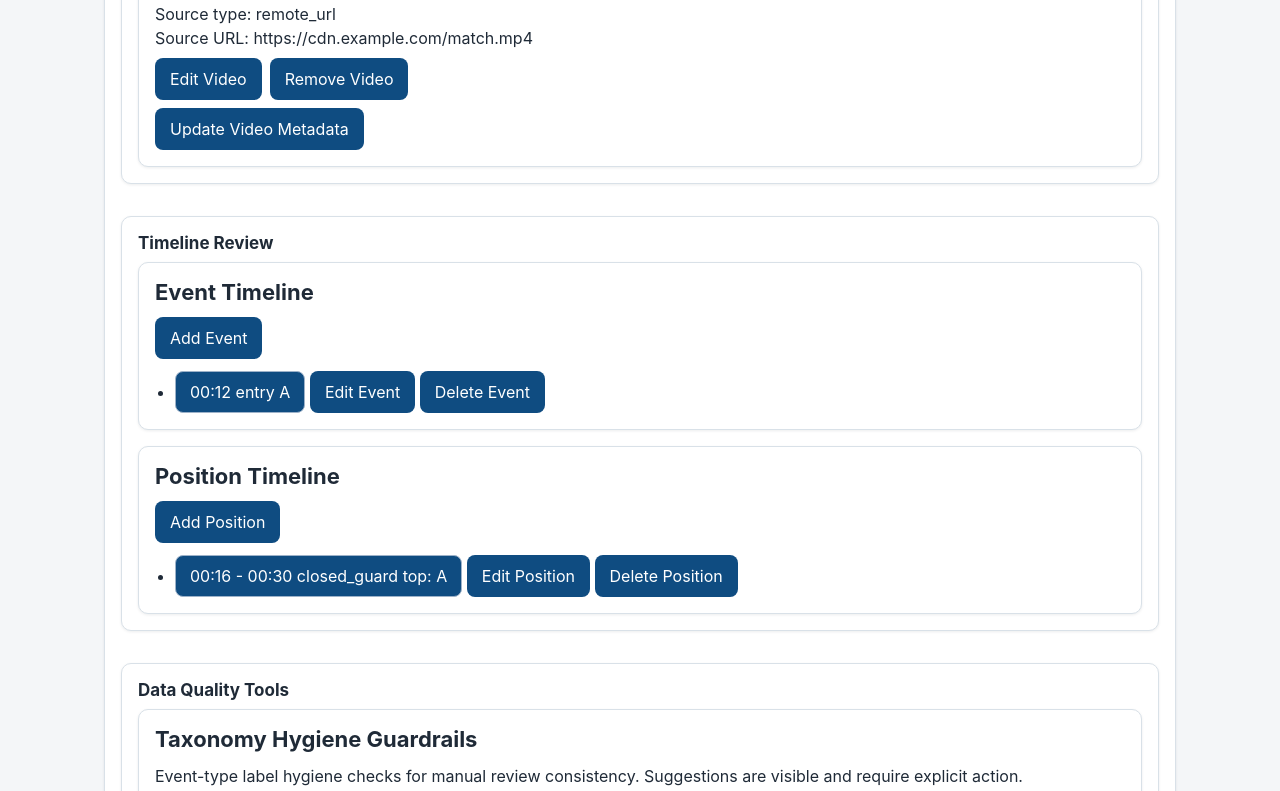
Scenario: Video review UI › seeks video when timeline items are clicked and shows validation errors
(page scrolled)
Click the button "00:12 entry A" at (240, 392), box left=175, top=371, right=305, bottom=413
(page scrolled)
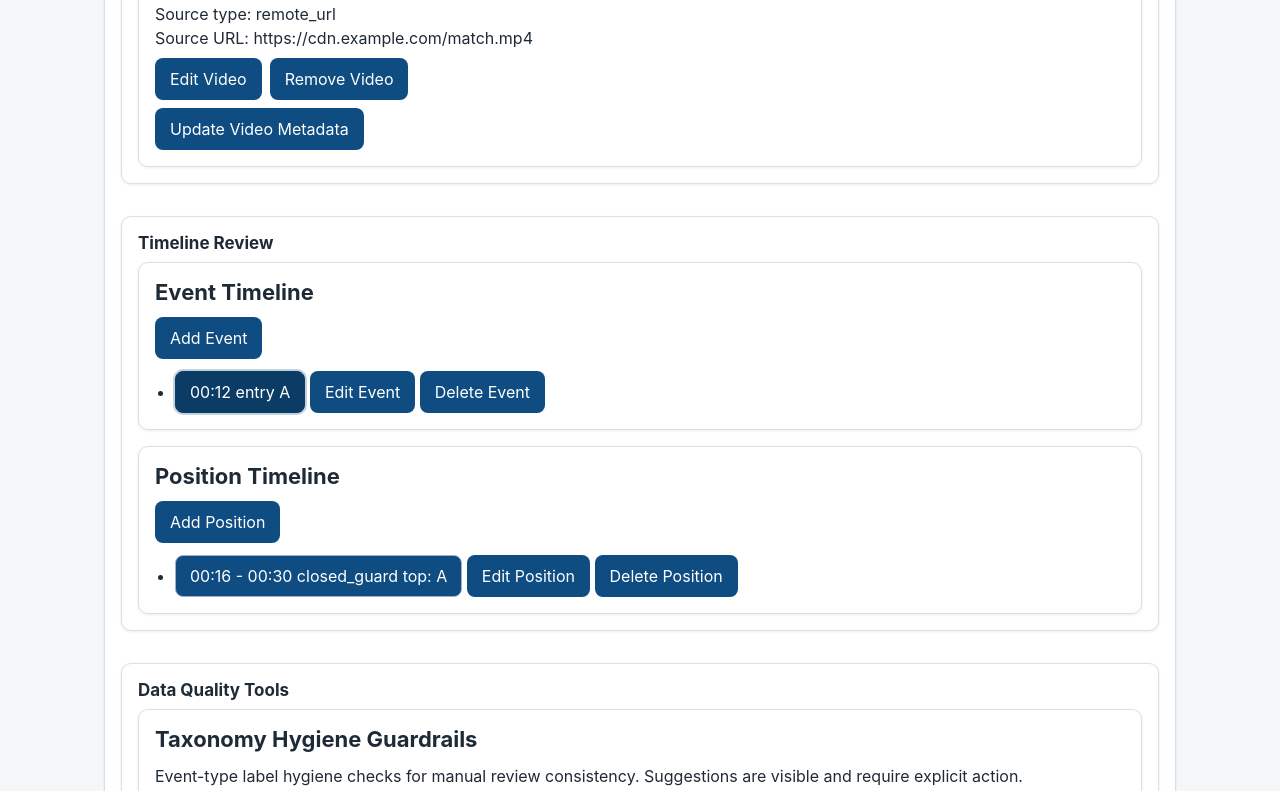
Click the button "00:16 - 00:30 closed_guard top: A" at (319, 576), box left=175, top=556, right=462, bottom=598
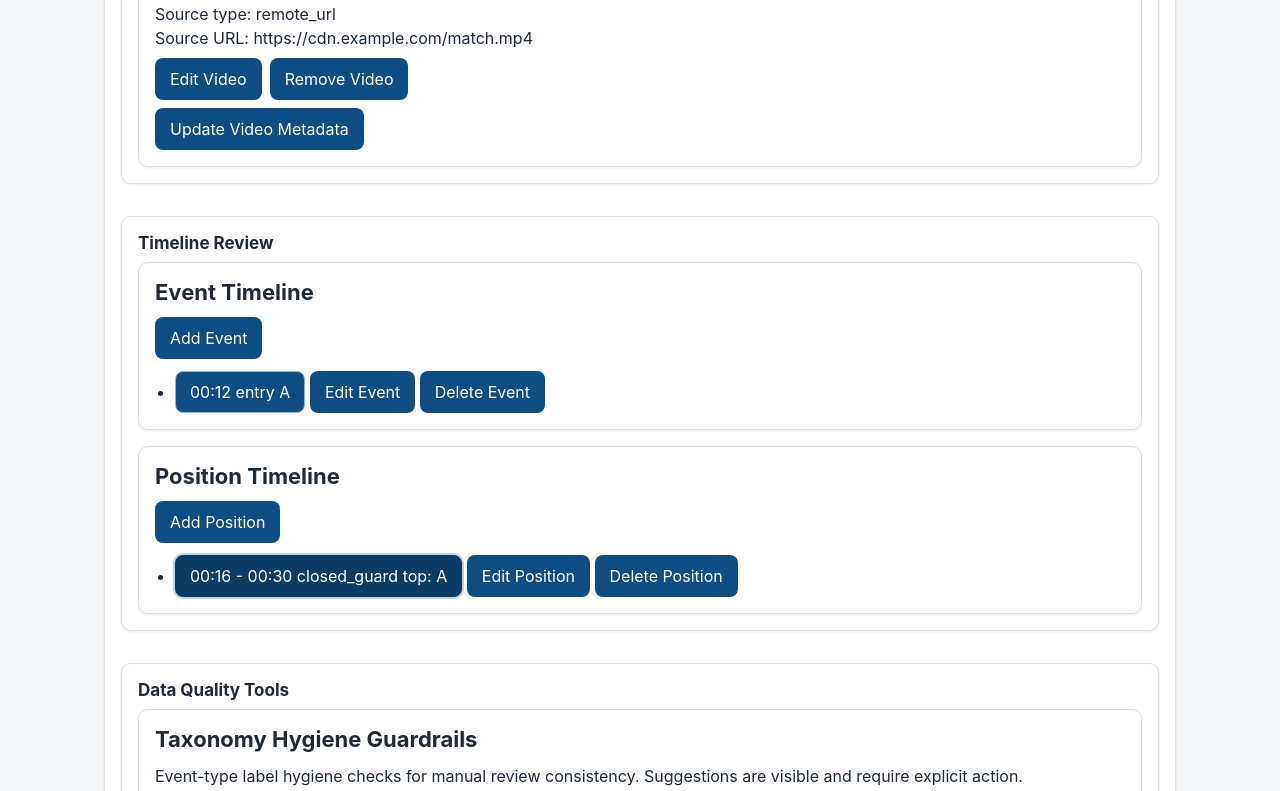
Click the button "Edit Video" at (208, 79), box left=155, top=58, right=262, bottom=100
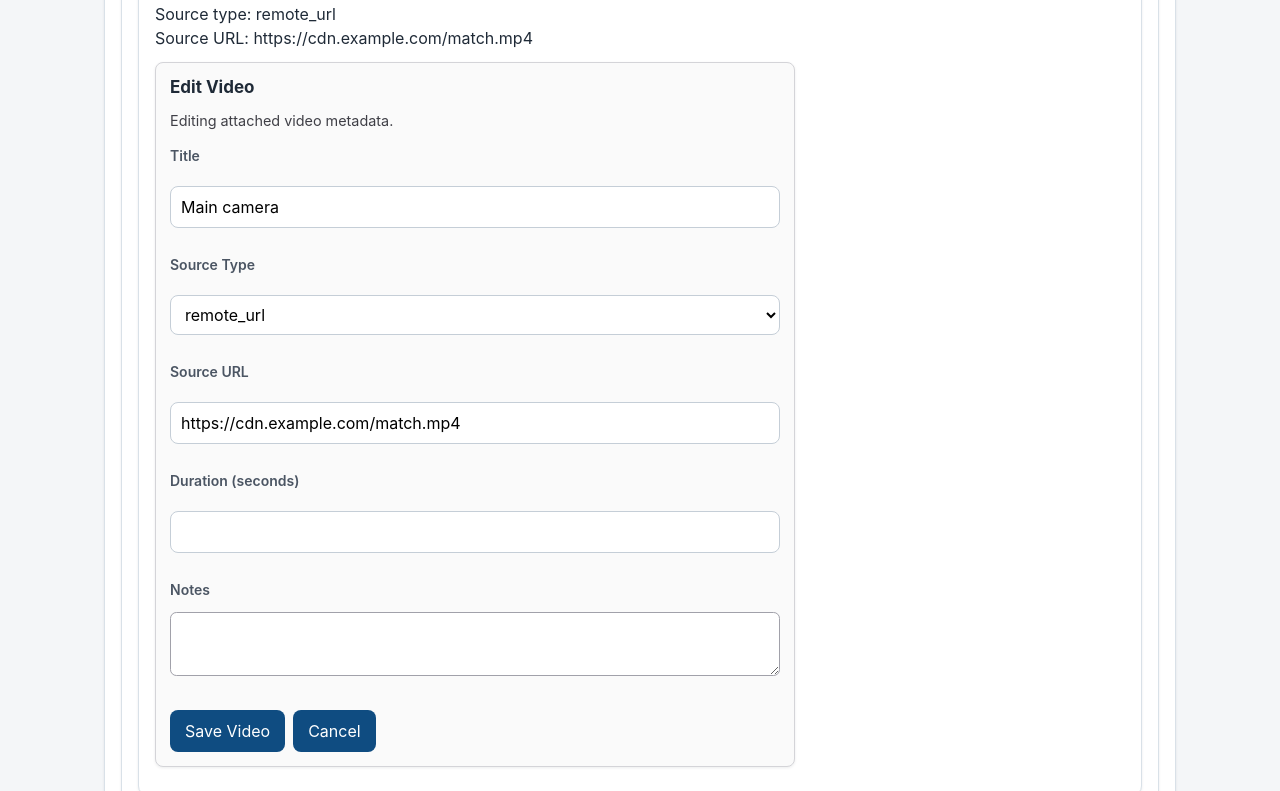
Clear the field labelled "Source URL" at (475, 423), box left=170, top=402, right=780, bottom=444
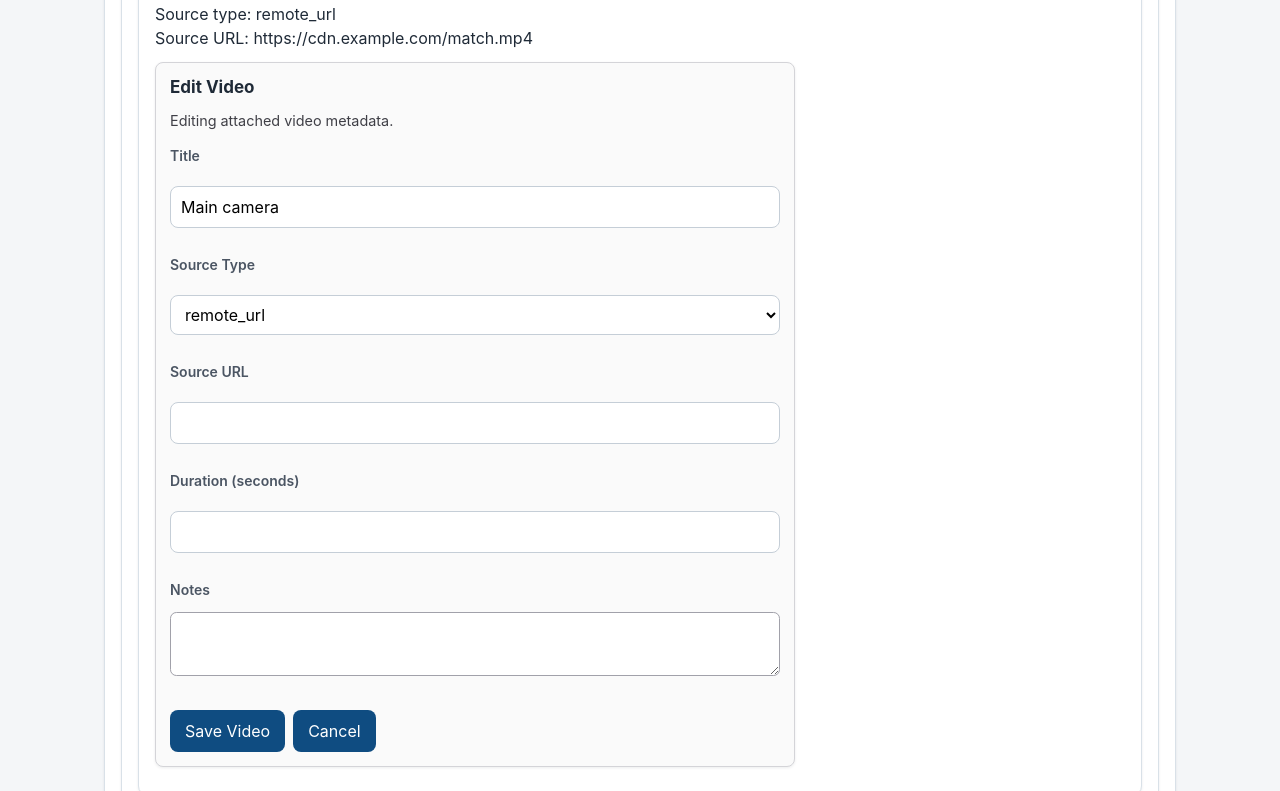
Click the button "Save Video" at (228, 731), box left=170, top=710, right=285, bottom=752
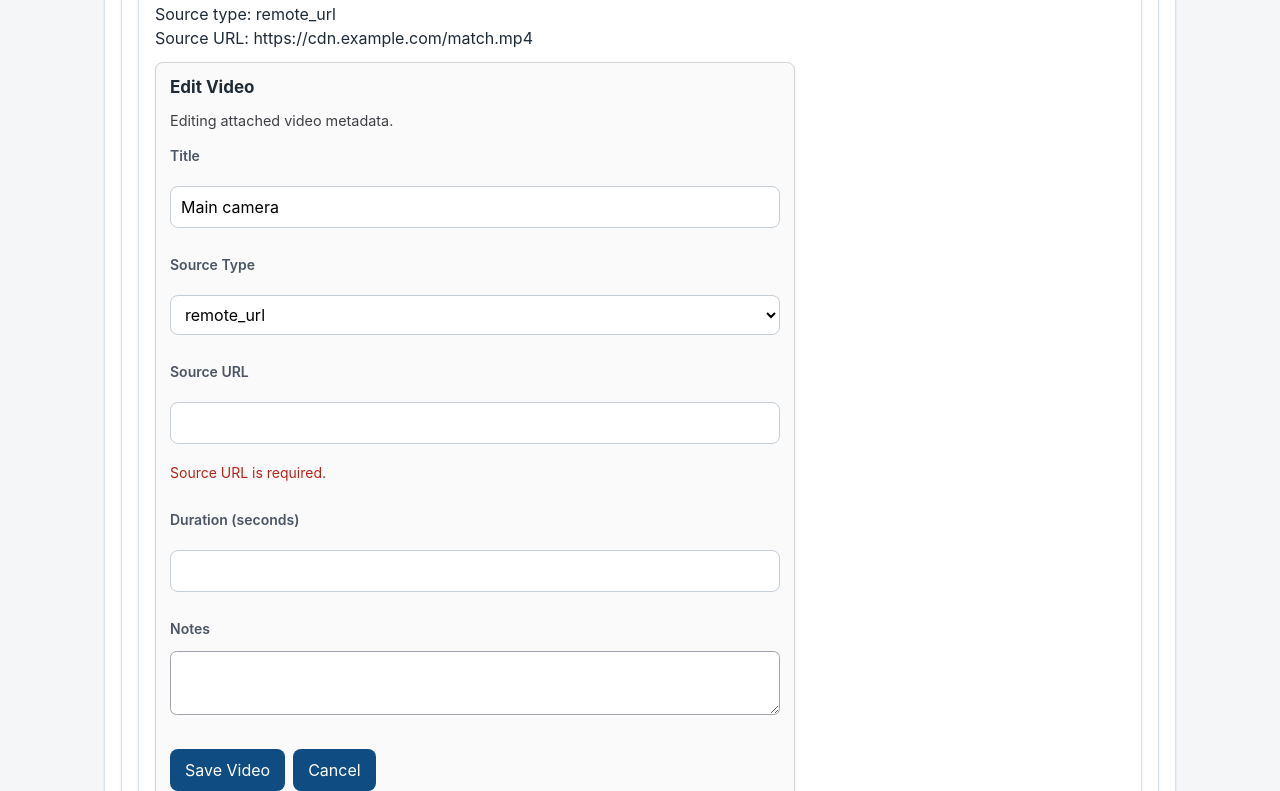
Check: the text "Source URL is required." is shown, box left=170, top=464, right=326, bottom=481
